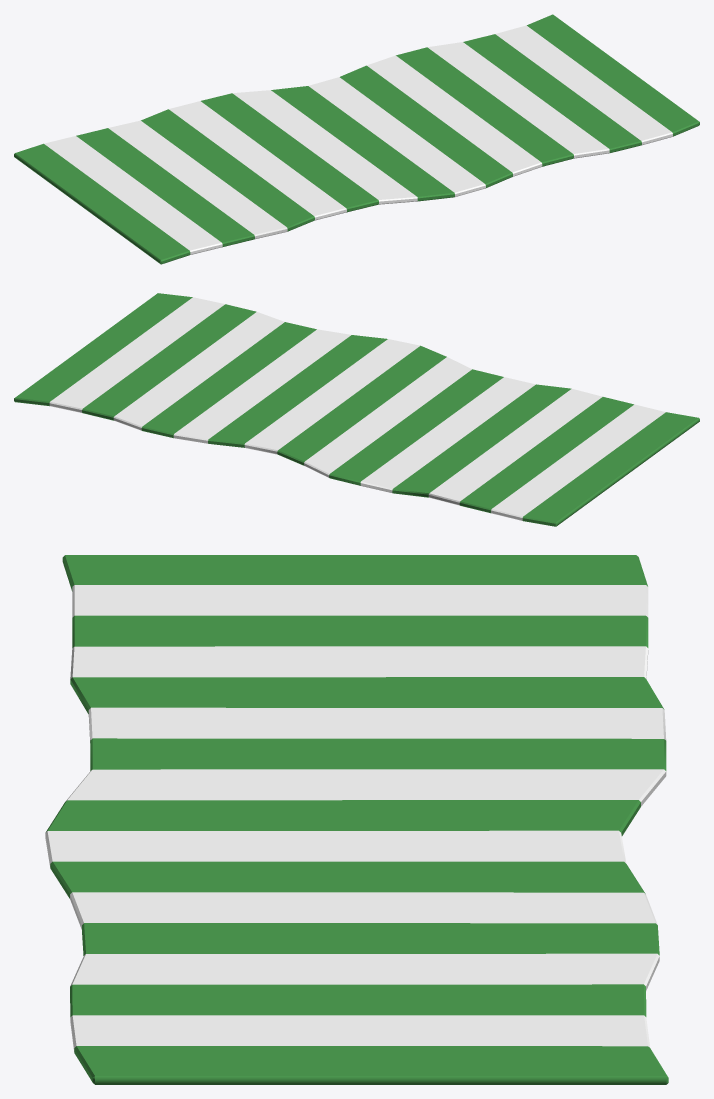
Rendered from peskir1.fbx.
3 renders of one model, top to bottom at view 1: azimuth 30°, elevation 25°; view 2: azimuth 150°, elevation 25°; view 3: azimuth 270°, elevation 25°, orthographic. The views are drawn at different scales.
Parts seen in each view (by area): view 1: Peskir; view 2: Peskir; view 3: Peskir.
Part boxes in pixels (x1,y1,x2,y2): Peskir: (14, 14, 699, 264); Peskir: (14, 293, 699, 526); Peskir: (45, 555, 668, 1084).
Size of the model in its own units: 174 by 1.39 by 87.63.
